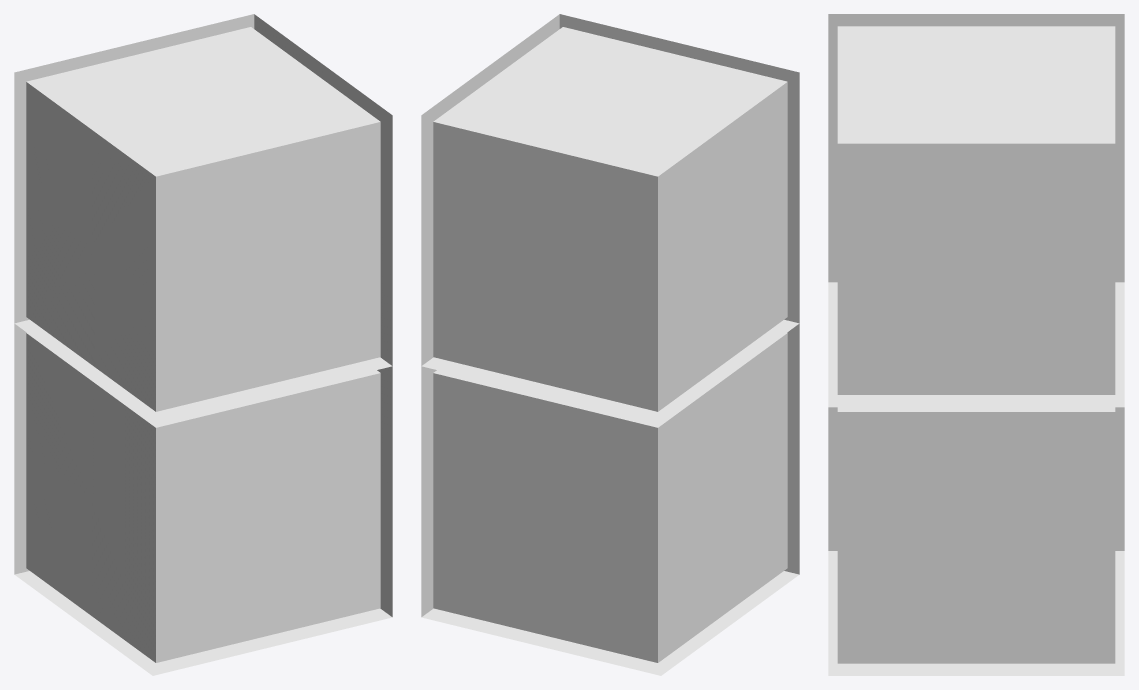
File: ICON_BOX.glb
3 renders of one model, left to right at view 1: azimuth 30°, elevation 25°; view 2: azimuth 150°, elevation 25°; view 3: azimuth 270°, elevation 25°, orthographic. The views are drawn at different scales.
Parts seen in each view (by area): view 1: Red_Box, obj8, Sel_Box, obj9; view 2: Red_Box, obj8, Sel_Box, obj9; view 3: Red_Box, obj8, Sel_Box, obj9.
Part boxes in pixels (box(x1,y1,x2,y2)): Red_Box: box(26, 27, 380, 411); obj8: box(26, 332, 380, 662); Sel_Box: box(14, 14, 392, 424); obj9: box(14, 323, 392, 675); Red_Box: box(433, 27, 787, 411); obj8: box(433, 332, 787, 662); Sel_Box: box(421, 14, 799, 424); obj9: box(421, 323, 799, 675); Red_Box: box(837, 26, 1115, 394); obj8: box(837, 407, 1115, 663); Sel_Box: box(828, 14, 1124, 407); obj9: box(828, 407, 1124, 675).
Bounding box in the file's own units: 3.2 × 6.4 × 3.2.
Materials: 4 (4 with a texture image).
